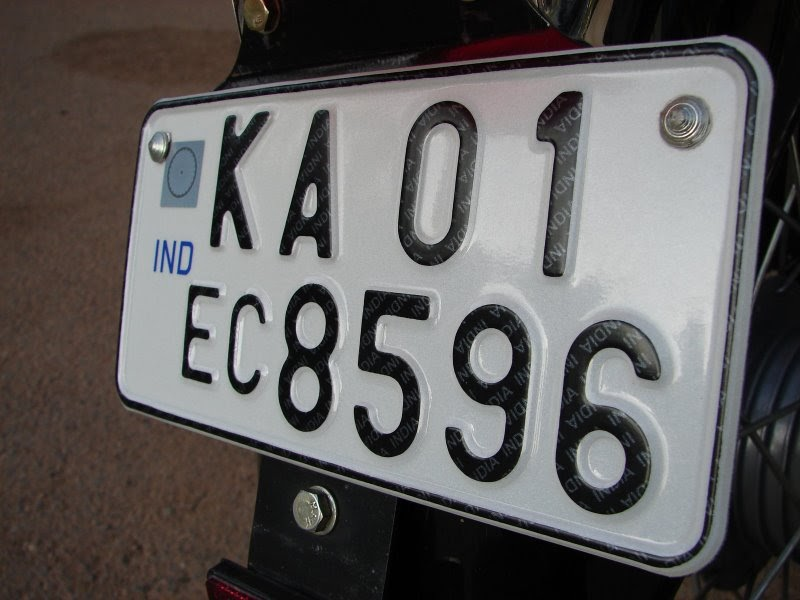number_plate: (111, 36, 777, 577)
